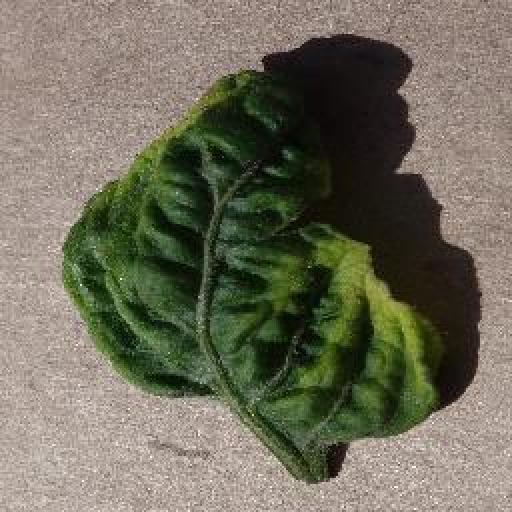disease_tomato: (58, 69, 447, 463)
